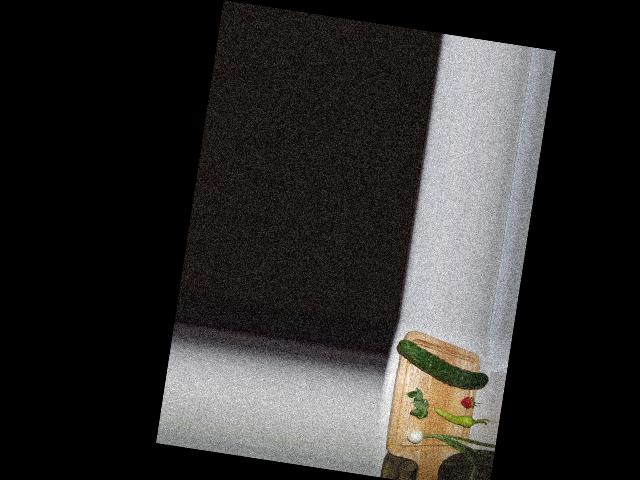cucumber: (393, 338, 491, 391)
